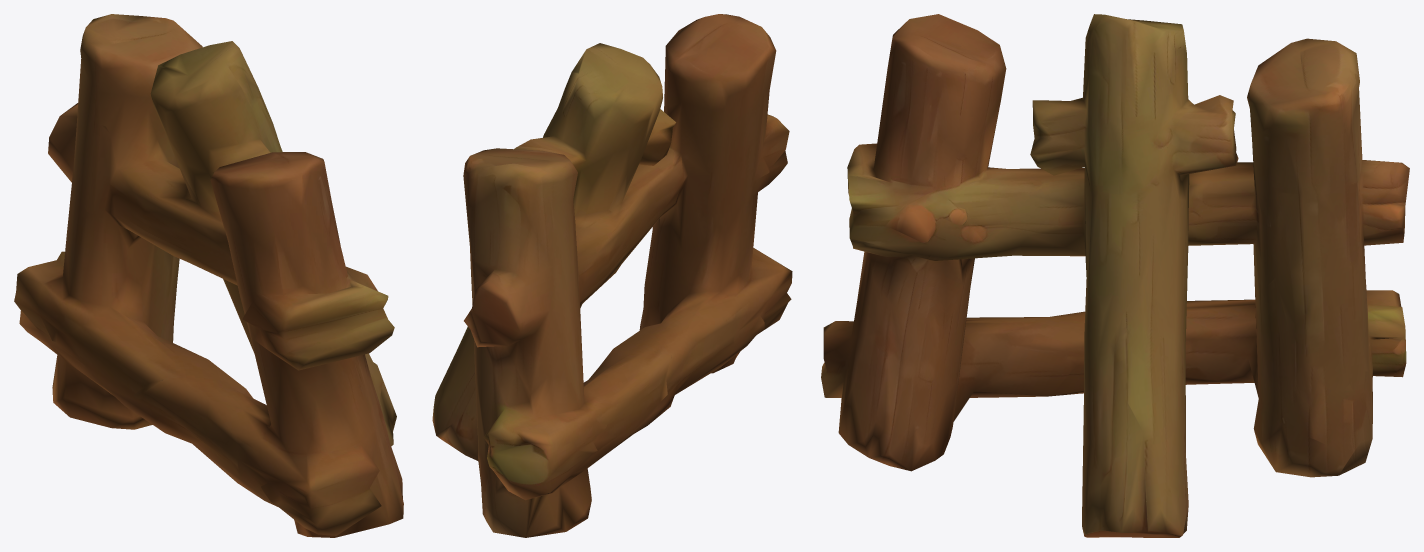
File: pro_fence-cg5ngKq6.glb
The picture shows the model from 3 angles, left to right: view 1: azimuth 30°, elevation 25°; view 2: azimuth 150°, elevation 25°; view 3: azimuth 270°, elevation 25°; orthographic projection. The views are drawn at different scales.
Visible parts, largest first — view 1: tripo_node_0768f95d-806e-45a8-8c9a-80798308f990; view 2: tripo_node_0768f95d-806e-45a8-8c9a-80798308f990; view 3: tripo_node_0768f95d-806e-45a8-8c9a-80798308f990.
Boxes of the visible parts, x1,y1,x2,y2 form: tripo_node_0768f95d-806e-45a8-8c9a-80798308f990: (14,14,403,537); tripo_node_0768f95d-806e-45a8-8c9a-80798308f990: (432,14,792,537); tripo_node_0768f95d-806e-45a8-8c9a-80798308f990: (821,14,1409,537).
Bounding box in the file's own units: 0.5394 × 0.8909 × 1.
1 material, 1 textured.
